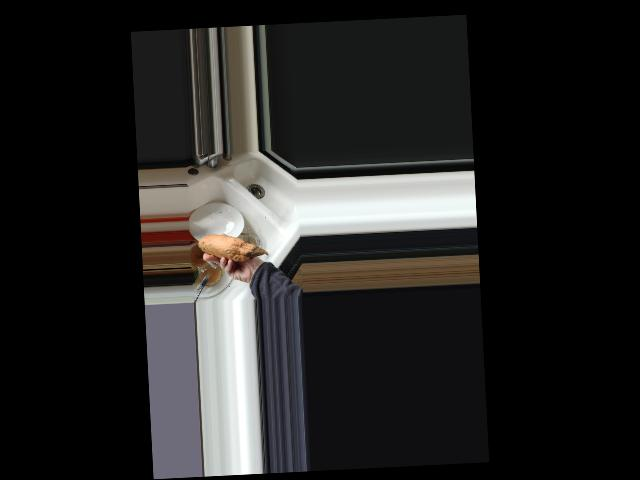sweet_potato: (198, 229, 269, 263)
